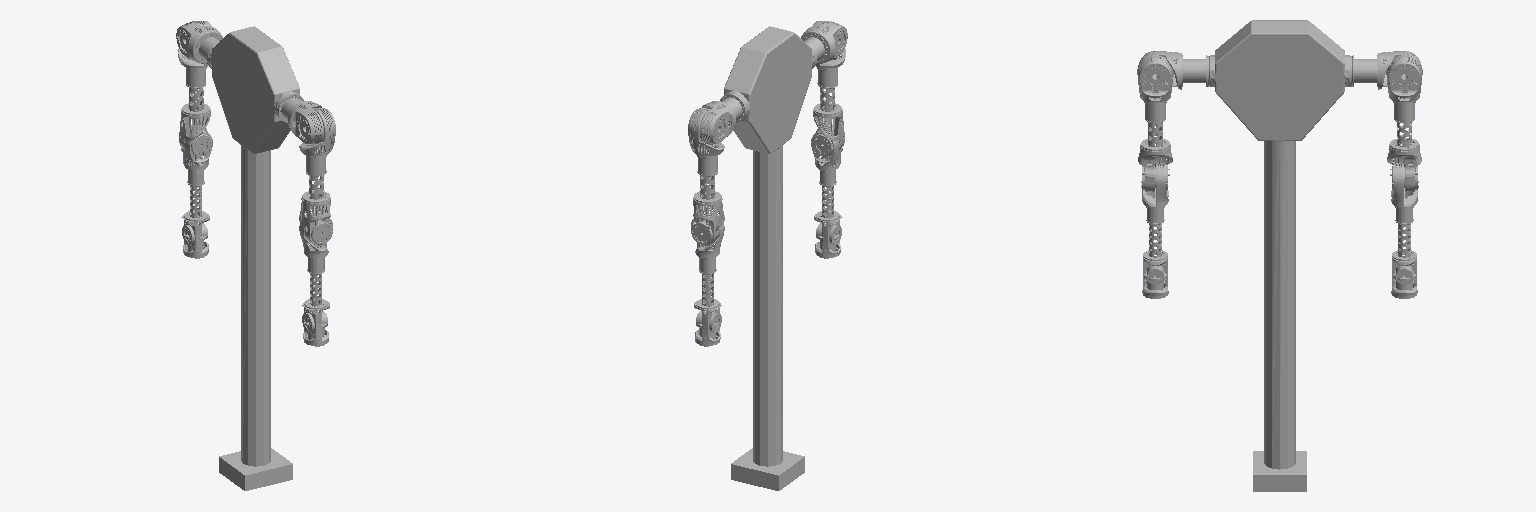
URDF robot description (HR-UP-7DOF-3KG-R-B01382-URDF-1029):
<?xml version="1.0" encoding="utf-8"?>
<!--
  HR-UP-7DOF-3KG-R-B01382 修复版 (2026-10-30)
  双臂限位于2026-11-06按get_config内缩0.02rad与现场bridge对齐（左臂当日17:24先行，右臂18:1x补齐）。
  本包结构仿 SolidWorks 原始导出包 HR-UP-7DOF-3KG-R-B01382-URDF-1029。
  ROS2 包名: hr_up_7dof_fixed (原包名含 '-' 不符合 ROS 包名规范, 目录名保留原名风格)
  基于 SW 原始导出修正:
  1. mesh 路径改为 package://hr_up_7dof_fixed/meshes/ (自包含)
  2. 14 个关节限位从 0/0 修复为 ±2.967 rad (参考同类 7-DOF 臂)
     2b. 左臂 Joint1L~Joint7L 改用控制器 get_config 实测软限位并内缩 0.02rad
         (2026-11-06, 与 exton_bridge.py 的 LIVE_LIMITS_RAD 同值)；
         旧值 ±2.967 比真机宽, 会让 IK 目标越过 bridge 裁剪线而与真机失配。
         2c. 右臂 Joint1~Joint7 同日改用同表（控制器 get_config 18:10 原文：
             upper=[2.79,0.26,2.79,2.26,2.79,1.57,2.79]×2臂, lower=[-2.79,-2.3562,...]×2臂,
             双臂对称; 内缩 0.02rad 后即 LIVE_LIMITS_RAD），右臂不再特例。
  3. 新增 base_link 根节点 + 固定安装变换 rpy=(-pi/2,-pi/2,0), 抬高 1.244m:
     整体由装配倒伏姿态改为竖直站立 (背板底端落在 z=0 地面), 零位双臂自然下垂
  4. 左臂 Joint1L~Joint7L origin 按右臂严格镜像重写 (修复 SW 装配 frame 混乱;
     右臂 Joint1~7 与原文件逐字节一致, 运动学未动)
  5. 左臂 Link1L~6L visual/collision origin 加姿态补偿:
     Link1L/3L/4L 绕 z 翻 180°, Link2L/5L/6L 绕 x 翻 180°, Link7L 不补偿
  注意:
  - 左臂运动学定义已按镜像重写 (有意修正), 与厂商原始 URDF 左臂零位不同, 接实机需重新核对
  - 同目录下 csv 为原始 SW 导出数据表 (左臂 Joint Origin 列对应原始版, 不反映本修复)
  - launch/display.launch.py 为 ROS2 (Humble) 格式, 对应原包的 ROS1 display.launch
  启动: ros2 launch hr_up_7dof_fixed display.launch.py
-->

<!-- This URDF was automatically created by SolidWorks to URDF Exporter! Originally created by Stephen Brawner (brawner@gmail.com) 
     Commit Version: 1.6.0-4-g7f85cfe  Build Version: 1.6.7995.38578
     For more information, please see http://wiki.ros.org/sw_urdf_exporter -->
<robot
  name="HR-UP-7DOF-3KG-R-B01382-URDF-1029">
  <link
    name="base">
    <inertial>
      <origin
        xyz="-0.376387537826631 -2.62081733964732E-07 -5.55111512312578E-17"
        rpy="0 0 0" />
      <mass
        value="15.5223953670435" />
      <inertia
        ixx="0.0827074536468223"
        ixy="-1.34986564896919E-07"
        ixz="1.0704489838012E-08"
        iyy="3.14007278551179"
        iyz="1.60922064995619E-08"
        izz="3.0789407204689" />
    </inertial>
    <visual>
      <origin
        xyz="0 0 0"
        rpy="0 0 0" />
      <geometry>
        <mesh
          filename="package://hr_up_7dof_fixed/meshes/base.STL" />
      </geometry>
      <material
        name="">
        <color
          rgba="0.752941176470588 0.752941176470588 0.752941176470588 1" />
      </material>
    </visual>
    <collision>
      <origin
        xyz="0 0 0"
        rpy="0 0 0" />
      <geometry>
        <mesh
          filename="package://hr_up_7dof_fixed/meshes/base.STL" />
      </geometry>
    </collision>
  </link>
  <link
    name="Link1">
    <inertial>
      <origin
        xyz="-0.000591561365081261 0.00320427695188968 -0.0597144083302867"
        rpy="0 0 0" />
      <mass
        value="0.3678301641414" />
      <inertia
        ixx="0.000425320901492475"
        ixy="-7.43831250588063E-06"
        ixz="1.73516526916848E-06"
        iyy="0.000441015892976663"
        iyz="3.36458694906235E-05"
        izz="0.000368632561441053" />
    </inertial>
    <visual>
      <origin
        xyz="0 0 0"
        rpy="0 0 0" />
      <geometry>
        <mesh
          filename="package://hr_up_7dof_fixed/meshes/Link1.STL" />
      </geometry>
      <material
        name="">
        <color
          rgba="0.752941176470588 0.752941176470588 0.752941176470588 1" />
      </material>
    </visual>
    <collision>
      <origin
        xyz="0 0 0"
        rpy="0 0 0" />
      <geometry>
        <mesh
          filename="package://hr_up_7dof_fixed/meshes/Link1.STL" />
      </geometry>
    </collision>
  </link>
  <joint
    name="Joint1"
    type="revolute">
    <origin
      xyz="0 0 -0.194"
      rpy="0 0 -3.1416" />
    <parent
      link="base" />
    <child
      link="Link1" />
    <axis
      xyz="0 0 1" />
    <limit
      lower="-2.77"
      upper="2.77"
      effort="100"
      velocity="6.28" />
  </joint>
  <link
    name="Link2">
    <inertial>
      <origin
        xyz="0.0106774916647973 0.000181873071192117 -0.00314585862786001"
        rpy="0 0 0" />
      <mass
        value="0.359887026812365" />
      <inertia
        ixx="0.000364078688238279"
        ixy="-4.8947616519457E-06"
        ixz="-3.5627625592209E-05"
        iyy="0.000407149771176912"
        iyz="-5.2802785399217E-06"
        izz="0.000388015415520843" />
    </inertial>
    <visual>
      <origin
        xyz="0 0 0"
        rpy="0 0 0" />
      <geometry>
        <mesh
          filename="package://hr_up_7dof_fixed/meshes/Link2.STL" />
      </geometry>
      <material
        name="">
        <color
          rgba="0.752941176470588 0.752941176470588 0.752941176470588 1" />
      </material>
    </visual>
    <collision>
      <origin
        xyz="0 0 0"
        rpy="0 0 0" />
      <geometry>
        <mesh
          filename="package://hr_up_7dof_fixed/meshes/Link2.STL" />
      </geometry>
    </collision>
  </link>
  <joint
    name="Joint2"
    type="revolute">
    <origin
      xyz="0 0 -0.15"
      rpy="-1.5708 0 0" />
    <parent
      link="Link1" />
    <child
      link="Link2" />
    <axis
      xyz="0 0 1" />
    <limit
      lower="-2.3362"
      upper="0.24"
      effort="100"
      velocity="6.28" />
  </joint>
  <link
    name="Link3">
    <inertial>
      <origin
        xyz="-0.000794196663793553 0.00537395944616941 0.134802058258116"
        rpy="0 0 0" />
      <mass
        value="0.475618970663951" />
      <inertia
        ixx="0.000799740442003772"
        ixy="-1.33756853028561E-05"
        ixz="1.24883996932872E-05"
        iyy="0.000828828157757174"
        iyz="-8.93031147752984E-05"
        izz="0.000437142259604194" />
    </inertial>
    <visual>
      <origin
        xyz="0 0 0"
        rpy="0 0 0" />
      <geometry>
        <mesh
          filename="package://hr_up_7dof_fixed/meshes/Link3.STL" />
      </geometry>
      <material
        name="">
        <color
          rgba="0.752941176470588 0.752941176470588 0.752941176470588 1" />
      </material>
    </visual>
    <collision>
      <origin
        xyz="0 0 0"
        rpy="0 0 0" />
      <geometry>
        <mesh
          filename="package://hr_up_7dof_fixed/meshes/Link3.STL" />
      </geometry>
    </collision>
  </link>
  <joint
    name="Joint3"
    type="revolute">
    <origin
      xyz="0.078 0 0"
      rpy="0 1.5708 0" />
    <parent
      link="Link2" />
    <child
      link="Link3" />
    <axis
      xyz="0 0 1" />
    <limit
      lower="-2.77"
      upper="2.77"
      effort="100"
      velocity="6.28" />
  </joint>
  <link
    name="Link4">
    <inertial>
      <origin
        xyz="0.00975027962340019 0.000372530736054276 0.00176807760725375"
        rpy="0 0 0" />
      <mass
        value="0.242852964563248" />
      <inertia
        ixx="0.000174061578236843"
        ixy="-1.25255061120561E-06"
        ixz="1.89484096662568E-05"
        iyy="0.000202282981517127"
        iyz="4.0038167412235E-06"
        izz="0.000195723542295689" />
    </inertial>
    <visual>
      <origin
        xyz="0 0 0"
        rpy="0 0 0" />
      <geometry>
        <mesh
          filename="package://hr_up_7dof_fixed/meshes/Link4.STL" />
      </geometry>
      <material
        name="">
        <color
          rgba="0.752941176470588 0.752941176470588 0.752941176470588 1" />
      </material>
    </visual>
    <collision>
      <origin
        xyz="0 0 0"
        rpy="0 0 0" />
      <geometry>
        <mesh
          filename="package://hr_up_7dof_fixed/meshes/Link4.STL" />
      </geometry>
    </collision>
  </link>
  <joint
    name="Joint4"
    type="revolute">
    <origin
      xyz="0 0 0.247"
      rpy="1.5708 -1.5708 0" />
    <parent
      link="Link3" />
    <child
      link="Link4" />
    <axis
      xyz="0 0 1" />
    <limit
      lower="-0.67"
      upper="2.24"
      effort="100"
      velocity="6.28" />
  </joint>
  <link
    name="Link5">
    <inertial>
      <origin
        xyz="-0.00173646564193267 -0.000155248896045063 0.085325215516217"
        rpy="0 0 0" />
      <mass
        value="0.164930022113935" />
      <inertia
        ixx="0.000131461645150165"
        ixy="-3.15409086112128E-07"
        ixz="1.07948742726345E-05"
        iyy="0.00012690816108135"
        iyz="-3.22478075222191E-07"
        izz="7.70801421996649E-05" />
    </inertial>
    <visual>
      <origin
        xyz="0 0 0"
        rpy="0 0 0" />
      <geometry>
        <mesh
          filename="package://hr_up_7dof_fixed/meshes/Link5.STL" />
      </geometry>
      <material
        name="">
        <color
          rgba="0.752941176470588 0.752941176470588 0.752941176470588 1" />
      </material>
    </visual>
    <collision>
      <origin
        xyz="0 0 0"
        rpy="0 0 0" />
      <geometry>
        <mesh
          filename="package://hr_up_7dof_fixed/meshes/Link5.STL" />
      </geometry>
    </collision>
  </link>
  <joint
    name="Joint5"
    type="revolute">
    <origin
      xyz="0.0764 0 0"
      rpy="-1.5708 0 -1.5708" />
    <parent
      link="Link4" />
    <child
      link="Link5" />
    <axis
      xyz="0 0 1" />
    <limit
      lower="-2.77"
      upper="2.77"
      effort="100"
      velocity="6.28" />
  </joint>
  <link
    name="Link6">
    <inertial>
      <origin
        xyz="0.0104892045435304 -6.01581548683741E-07 -0.00249827064212885"
        rpy="0 0 0" />
      <mass
        value="0.144939847863476" />
      <inertia
        ixx="8.15130084253264E-05"
        ixy="8.96452380335651E-11"
        ixz="-9.52662365220613E-06"
        iyy="9.18496914142817E-05"
        iyz="-7.8124380683384E-09"
        izz="9.15415032724651E-05" />
    </inertial>
    <visual>
      <origin
        xyz="0 0 0"
        rpy="0 0 0" />
      <geometry>
        <mesh
          filename="package://hr_up_7dof_fixed/meshes/Link6.STL" />
      </geometry>
      <material
        name="">
        <color
          rgba="0.752941176470588 0.752941176470588 0.752941176470588 1" />
      </material>
    </visual>
    <collision>
      <origin
        xyz="0 0 0"
        rpy="0 0 0" />
      <geometry>
        <mesh
          filename="package://hr_up_7dof_fixed/meshes/Link6.STL" />
      </geometry>
    </collision>
  </link>
  <joint
    name="Joint6"
    type="revolute">
    <origin
      xyz="0 0 0.2136"
      rpy="3.1416 -1.5708 0" />
    <parent
      link="Link5" />
    <child
      link="Link6" />
    <axis
      xyz="0 0 1" />
    <limit
      lower="-1.55"
      upper="1.55"
      effort="100"
      velocity="6.28" />
  </joint>
  <link
    name="Link7">
    <inertial>
      <origin
        xyz="2.19232814873556E-05 -1.47941976487554E-14 -0.030661959391494"
        rpy="0 0 0" />
      <mass
        value="0.109001414834473" />
      <inertia
        ixx="4.14075002615855E-05"
        ixy="-6.38314363402727E-17"
        ixz="-1.50453859983565E-09"
        iyy="4.13169683262698E-05"
        iyz="1.05968065143206E-18"
        izz="3.74678725864852E-05" />
    </inertial>
    <visual>
      <origin
        xyz="0 0 0"
        rpy="0 0 0" />
      <geometry>
        <mesh
          filename="package://hr_up_7dof_fixed/meshes/Link7.STL" />
      </geometry>
      <material
        name="">
        <color
          rgba="0.752941176470588 0.752941176470588 0.752941176470588 1" />
      </material>
    </visual>
    <collision>
      <origin
        xyz="0 0 0"
        rpy="0 0 0" />
      <geometry>
        <mesh
          filename="package://hr_up_7dof_fixed/meshes/Link7.STL" />
      </geometry>
    </collision>
  </link>
  <joint
    name="Joint7"
    type="revolute">
    <origin
      xyz="0.0614 0 0"
      rpy="3.1416 -1.5708 0" />
    <parent
      link="Link6" />
    <child
      link="Link7" />
    <axis
      xyz="0 0 1" />
    <limit
      lower="-2.77"
      upper="2.77"
      effort="100"
      velocity="6.28" />
  </joint>
  <link
    name="Link1L">
    <inertial>
      <origin
        xyz="0.000591068125007005 -0.00320614565370185 0.0597092491486269"
        rpy="0 0 0" />
      <mass
        value="0.367808392323499" />
      <inertia
        ixx="0.000425416190274079"
        ixy="-7.47295603123382E-06"
        ixz="1.76208480664631E-06"
        iyy="0.000440933384413344"
        iyz="3.36490973531412E-05"
        izz="0.000368620190381941" />
    </inertial>
    <visual>
      <origin
        xyz="0 0 0"
        rpy="0.000000 0.000000 3.141593" />
      <geometry>
        <mesh
          filename="package://hr_up_7dof_fixed/meshes/Link1L.STL" />
      </geometry>
      <material
        name="">
        <color
          rgba="0.752941176470588 0.752941176470588 0.752941176470588 1" />
      </material>
    </visual>
    <collision>
      <origin
        xyz="0 0 0"
        rpy="0.000000 0.000000 3.141593" />
      <geometry>
        <mesh
          filename="package://hr_up_7dof_fixed/meshes/Link1L.STL" />
      </geometry>
    </collision>
  </link>
  <joint
    name="Joint1L"
    type="revolute">
    <origin
      xyz="0 0 0.194"
      rpy="0 0 -3.1416" />
    <parent
      link="base" />
    <child
      link="Link1L" />
    <axis
      xyz="0 0 1" />
    <limit
      lower="-2.77"
      upper="2.77"
      effort="100"
      velocity="6.28" />
  </joint>
  <link
    name="Link2L">
    <inertial>
      <origin
        xyz="0.0106916763035278 -0.000173514284543597 -0.00314337977356001"
        rpy="0 0 0" />
      <mass
        value="0.360190520660374" />
      <inertia
        ixx="0.000364591449298305"
        ixy="4.94144689154542E-06"
        ixz="-3.56591377652058E-05"
        iyy="0.000407564307943435"
        iyz="5.73694745583767E-06"
        izz="0.000388210543299227" />
    </inertial>
    <visual>
      <origin
        xyz="0 0 0"
        rpy="3.141593 0.000000 0.000000" />
      <geometry>
        <mesh
          filename="package://hr_up_7dof_fixed/meshes/Link2L.STL" />
      </geometry>
      <material
        name="">
        <color
          rgba="0.752941176470588 0.752941176470588 0.752941176470588 1" />
      </material>
    </visual>
    <collision>
      <origin
        xyz="0 0 0"
        rpy="3.141593 0.000000 0.000000" />
      <geometry>
        <mesh
          filename="package://hr_up_7dof_fixed/meshes/Link2L.STL" />
      </geometry>
    </collision>
  </link>
  <joint
    name="Joint2L"
    type="revolute">
    <origin
      xyz="0 0 0.15"
      rpy="1.5708 0 0" />
    <parent
      link="Link1L" />
    <child
      link="Link2L" />
    <axis
      xyz="0 0 1" />
    <limit
      lower="-2.3362"
      upper="0.24"
      effort="100"
      velocity="6.28" />
  </joint>
  <link
    name="Link3L">
    <inertial>
      <origin
        xyz="0.000291402112978737 -0.00196958841242456 -0.0728636028996557"
        rpy="0 0 0" />
      <mass
        value="0.463736306643499" />
      <inertia
        ixx="0.000462341211893298"
        ixy="-4.75913095840478E-06"
        ixz="4.43462921065407E-06"
        iyy="0.000472657085301201"
        iyz="-3.18762134085855E-05"
        izz="0.000282811922628424" />
    </inertial>
    <visual>
      <origin
        xyz="0 0 0"
        rpy="0.000000 0.000000 3.141593" />
      <geometry>
        <mesh
          filename="package://hr_up_7dof_fixed/meshes/Link3L.STL" />
      </geometry>
      <material
        name="">
        <color
          rgba="0.752941176470588 0.752941176470588 0.752941176470588 1" />
      </material>
    </visual>
    <collision>
      <origin
        xyz="0 0 0"
        rpy="0.000000 0.000000 3.141593" />
      <geometry>
        <mesh
          filename="package://hr_up_7dof_fixed/meshes/Link3L.STL" />
      </geometry>
    </collision>
  </link>
  <joint
    name="Joint3L"
    type="revolute">
    <origin
      xyz="0.078 0 0"
      rpy="0 -1.5708 0" />
    <parent
      link="Link2L" />
    <child
      link="Link3L" />
    <axis
      xyz="0 0 1" />
    <limit
      lower="-2.77"
      upper="2.77"
      effort="100"
      velocity="6.28" />
  </joint>
  <link
    name="Link4L">
    <inertial>
      <origin
        xyz="-0.0119883718049398 -0.000368727861447744 -0.00170902169505127"
        rpy="0 0 0" />
      <mass
        value="0.251287299257852" />
      <inertia
        ixx="0.000180409145644291"
        ixy="-1.25565370114981E-06"
        ixz="1.89477793444068E-05"
        iyy="0.000205668219800651"
        iyz="4.0048243373935E-06"
        izz="0.000198784367983275" />
    </inertial>
    <visual>
      <origin
        xyz="0 0 0"
        rpy="0.000000 0.000000 3.141593" />
      <geometry>
        <mesh
          filename="package://hr_up_7dof_fixed/meshes/Link4L.STL" />
      </geometry>
      <material
        name="">
        <color
          rgba="0.752941176470588 0.752941176470588 0.752941176470588 1" />
      </material>
    </visual>
    <collision>
      <origin
        xyz="0 0 0"
        rpy="0.000000 0.000000 3.141593" />
      <geometry>
        <mesh
          filename="package://hr_up_7dof_fixed/meshes/Link4L.STL" />
      </geometry>
    </collision>
  </link>
  <joint
    name="Joint4L"
    type="revolute">
    <origin
      xyz="0 0 -0.247"
      rpy="-1.5708 1.5708 0" />
    <parent
      link="Link3L" />
    <child
      link="Link4L" />
    <axis
      xyz="0 0 1" />
    <limit
      lower="-0.67"
      upper="2.24"
      effort="100"
      velocity="6.28" />
  </joint>
  <link
    name="Link5L">
    <inertial>
      <origin
        xyz="-0.00100467282479264 -4.79644483286634E-06 0.085510953152942"
        rpy="0 0 0" />
      <mass
        value="0.181003333976795" />
      <inertia
        ixx="0.000163213034772374"
        ixy="3.85976771242943E-09"
        ixz="1.20600878753708E-05"
        iyy="0.000158585869850887"
        iyz="1.37490765624317E-08"
        izz="8.03502776037416E-05" />
    </inertial>
    <visual>
      <origin
        xyz="0 0 0"
        rpy="3.141593 0.000000 0.000000" />
      <geometry>
        <mesh
          filename="package://hr_up_7dof_fixed/meshes/Link5L.STL" />
      </geometry>
      <material
        name="">
        <color
          rgba="0.752941176470588 0.752941176470588 0.752941176470588 1" />
      </material>
    </visual>
    <collision>
      <origin
        xyz="0 0 0"
        rpy="3.141593 0.000000 0.000000" />
      <geometry>
        <mesh
          filename="package://hr_up_7dof_fixed/meshes/Link5L.STL" />
      </geometry>
    </collision>
  </link>
  <joint
    name="Joint5L"
    type="revolute">
    <origin
      xyz="0.0764 0 0"
      rpy="1.5708 0 -1.5708" />
    <parent
      link="Link4L" />
    <child
      link="Link5L" />
    <axis
      xyz="0 0 1" />
    <limit
      lower="-2.77"
      upper="2.77"
      effort="100"
      velocity="6.28" />
  </joint>
  <link
    name="Link6L">
    <inertial>
      <origin
        xyz="0.0104891683938672 -1.97967034498703E-06 -0.00250386103688268"
        rpy="0 0 0" />
      <mass
        value="0.144937188619048" />
      <inertia
        ixx="8.14957394470242E-05"
        ixy="-2.61420415198823E-09"
        ixz="-9.5320714728717E-06"
        iyy="9.18324710875711E-05"
        iyz="-5.19124219824279E-09"
        izz="9.15405048786224E-05" />
    </inertial>
    <visual>
      <origin
        xyz="0 0 0"
        rpy="3.141593 0.000000 0.000000" />
      <geometry>
        <mesh
          filename="package://hr_up_7dof_fixed/meshes/Link6L.STL" />
      </geometry>
      <material
        name="">
        <color
          rgba="0.752941176470588 0.752941176470588 0.752941176470588 1" />
      </material>
    </visual>
    <collision>
      <origin
        xyz="0 0 0"
        rpy="3.141593 0.000000 0.000000" />
      <geometry>
        <mesh
          filename="package://hr_up_7dof_fixed/meshes/Link6L.STL" />
      </geometry>
    </collision>
  </link>
  <joint
    name="Joint6L"
    type="revolute">
    <origin
      xyz="0 0 -0.2136"
      rpy="3.1416 1.5708 0" />
    <parent
      link="Link5L" />
    <child
      link="Link6L" />
    <axis
      xyz="0 0 1" />
    <limit
      lower="-1.55"
      upper="1.55"
      effort="100"
      velocity="6.28" />
  </joint>
  <link
    name="Link7L">
    <inertial>
      <origin
        xyz="-2.77477901810855E-18 2.19232814882009E-05 0.0306619593914942"
        rpy="0 0 0" />
      <mass
        value="0.109001414834473" />
      <inertia
        ixx="4.13169683262697E-05"
        ixy="2.06124633919894E-23"
        ixz="-2.18524227207288E-22"
        iyy="4.14075002615854E-05"
        iyz="1.50453859983735E-09"
        izz="3.7467872586485E-05" />
    </inertial>
    <visual>
      <origin
        xyz="0 0 0"
        rpy="0.000000 0.000000 0.000000" />
      <geometry>
        <mesh
          filename="package://hr_up_7dof_fixed/meshes/Link7L.STL" />
      </geometry>
      <material
        name="">
        <color
          rgba="0.752941176470588 0.752941176470588 0.752941176470588 1" />
      </material>
    </visual>
    <collision>
      <origin
        xyz="0 0 0"
        rpy="0.000000 0.000000 0.000000" />
      <geometry>
        <mesh
          filename="package://hr_up_7dof_fixed/meshes/Link7L.STL" />
      </geometry>
    </collision>
  </link>
  <joint
    name="Joint7L"
    type="revolute">
    <origin
      xyz="0.0614 0 0"
      rpy="3.1416 1.5708 0" />
    <parent
      link="Link6L" />
    <child
      link="Link7L" />
    <axis
      xyz="0 0 1" />
    <limit
      lower="-2.77"
      upper="2.77"
      effort="100"
      velocity="6.28" />
  </joint>
  <link name="base_link" />
  <joint name="base_link_to_base" type="fixed">
    <origin
      xyz="0 0 1.244"
      rpy="-1.5708 -1.5708 0" />
    <parent
      link="base_link" />
    <child
      link="base" />
  </joint>
</robot>

--- Render facts (derived) ---
3 views of the same robot in one strip: view 1: azimuth 30°, elevation 25°; view 2: azimuth 150°, elevation 25°; view 3: azimuth 270°, elevation 25° (orthographic).
Model HR-UP-7DOF-3KG-R-B01382-URDF-1029 with 16 links and 15 joints (14 revolute, 1 fixed), rooted at base_link, posed all joints at 0.
Visible links, largest first — view 1: base, Link3, Link3L, Link1, Link1L, Link5, Link5L, Link2, Link4L, Link4; view 2: base, Link3L, Link3, Link1L, Link1, Link5L, Link5, Link2L, Link4, Link4L; view 3: base, Link3, Link3L, Link2, Link2L, Link1, Link1L, Link5L, Link5, Link4, Link4L, Link6L (+1 smaller).
Boxes of the visible links, box(x1,y1,x2,y2) form: base: box(207, 26, 303, 490); Link3: box(299, 148, 332, 245); Link3L: box(179, 60, 210, 149); Link1: box(281, 97, 323, 143); Link1L: box(176, 22, 222, 63); Link5: box(302, 257, 329, 333); Link5L: box(182, 163, 209, 245); Link2: box(299, 108, 335, 158); Link4L: box(181, 129, 212, 171); Link4: box(299, 214, 329, 259); base: box(720, 26, 816, 490); Link3L: box(691, 148, 724, 245); Link3: box(813, 60, 844, 149); Link1L: box(700, 97, 742, 143); Link1: box(801, 22, 847, 63); Link5L: box(694, 257, 721, 333); Link5: box(814, 163, 841, 245); Link2L: box(688, 108, 724, 158); Link4: box(811, 129, 842, 171); Link4L: box(694, 214, 724, 259); base: box(1206, 20, 1353, 491); Link3: box(1138, 93, 1172, 191); Link3L: box(1387, 93, 1421, 191); Link2: box(1137, 55, 1173, 102); Link2L: box(1386, 55, 1422, 102); Link1: box(1137, 51, 1205, 89); Link1L: box(1354, 51, 1422, 89); Link5L: box(1392, 207, 1416, 279); Link5: box(1143, 207, 1167, 279); Link4: box(1142, 163, 1169, 207); Link4L: box(1390, 163, 1417, 207); Link6L: box(1391, 264, 1417, 298).
Size in the robot's own frame: 0.1598 by 0.7879 by 1.38 metres.
Meshes: 15 distinct files referenced, 15 mesh visuals loaded (15 binary STL).
